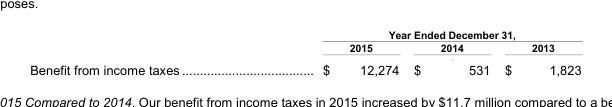table: (29, 28, 580, 76)
table column: (29, 28, 250, 76), (250, 28, 405, 76), (465, 28, 580, 76), (405, 28, 465, 76)
table column header: (29, 28, 580, 61)
table row: (29, 61, 580, 76), (29, 28, 580, 41), (29, 41, 580, 54), (29, 54, 580, 61)
table spanning cell: (250, 28, 580, 41), (250, 54, 580, 61)
